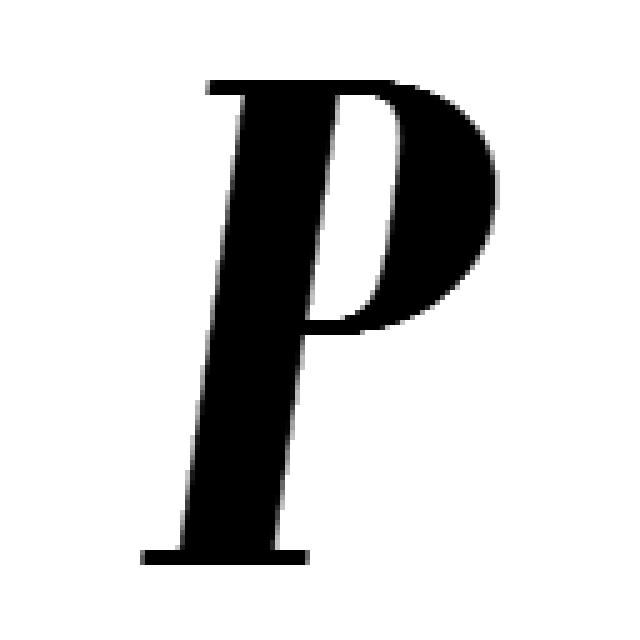P: (140, 80, 500, 570)
